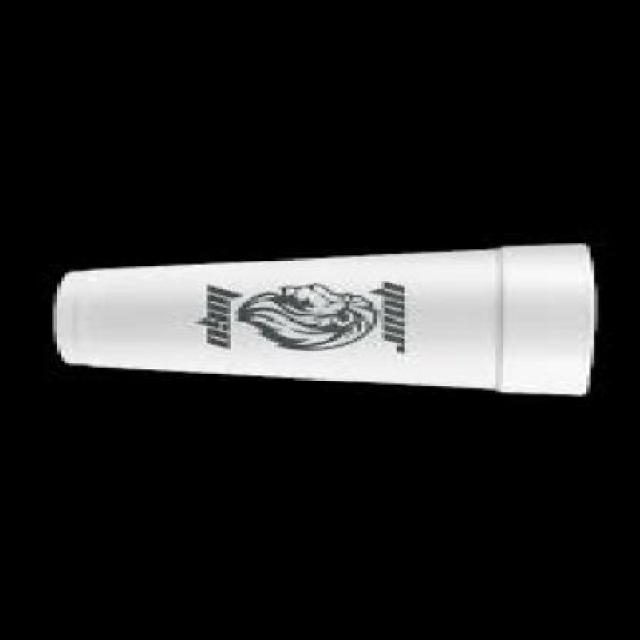PAPER: (55, 239, 600, 393)
